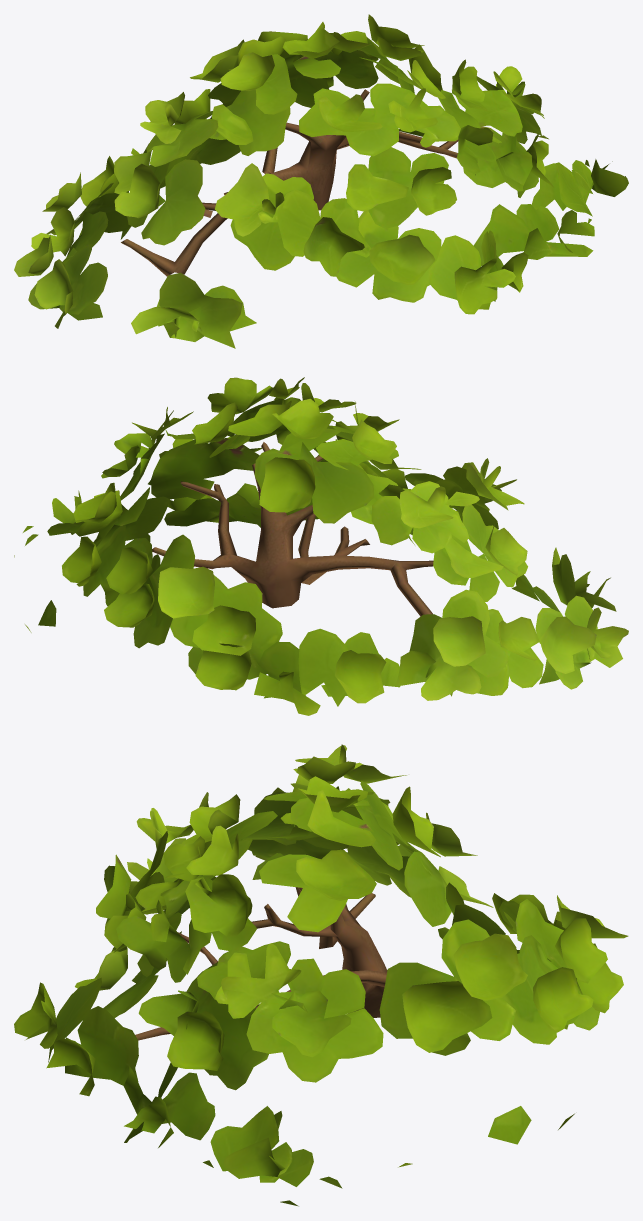
The model's file is CanopyShrub_B.fbx.
3 renders of one model, top to bottom at view 1: azimuth 30°, elevation 25°; view 2: azimuth 150°, elevation 25°; view 3: azimuth 270°, elevation 25°, orthographic. The views are drawn at different scales.
Visible parts, largest first — view 1: CanopyShrub_B; view 2: CanopyShrub_B; view 3: CanopyShrub_B.
Boxes of the visible parts, <box> form: CanopyShrub_B: <box>14,14,628,348</box>; CanopyShrub_B: <box>14,377,628,715</box>; CanopyShrub_B: <box>14,744,628,1206</box>.
Size of the model in its own units: 0.9379 by 0.3196 by 0.7034.
